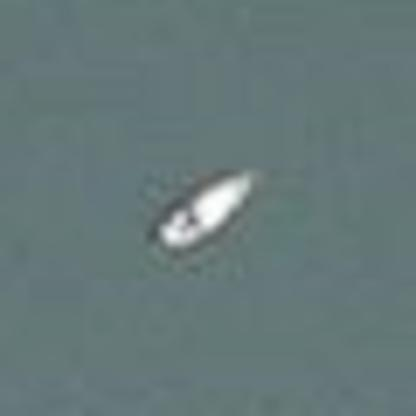ship: (125, 157, 273, 263)
